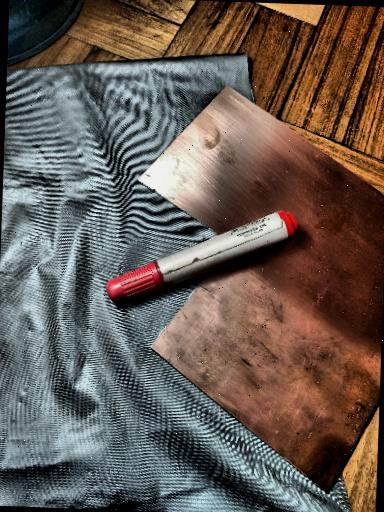marcador rojo: (106, 210, 296, 303)
